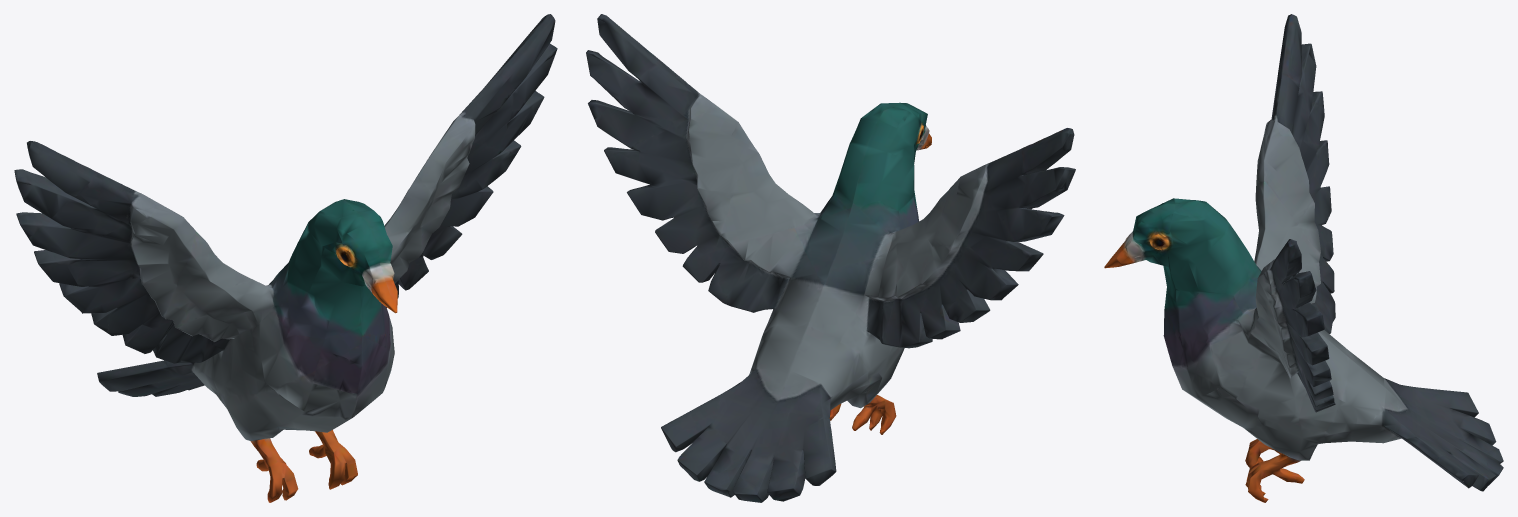
Rendered from boss-golab.glb.
3 views of the same model, side by side, from view 1: azimuth 30°, elevation 25°; view 2: azimuth 150°, elevation 25°; view 3: azimuth 270°, elevation 25° (orthographic). The views are drawn at different scales.
Visible parts, largest first — view 1: tripo_node_2a1b4546-d4b2-4ecf-9550-50170df08735; view 2: tripo_node_2a1b4546-d4b2-4ecf-9550-50170df08735; view 3: tripo_node_2a1b4546-d4b2-4ecf-9550-50170df08735.
Part boxes in pixels (<box>): tripo_node_2a1b4546-d4b2-4ecf-9550-50170df08735: <box>14,14,557,502</box>; tripo_node_2a1b4546-d4b2-4ecf-9550-50170df08735: <box>586,14,1075,502</box>; tripo_node_2a1b4546-d4b2-4ecf-9550-50170df08735: <box>1104,14,1503,502</box>.
Size of the model in its own units: 0.9811 by 0.7026 by 0.7053.
Materials: 1 (1 with a texture image).
